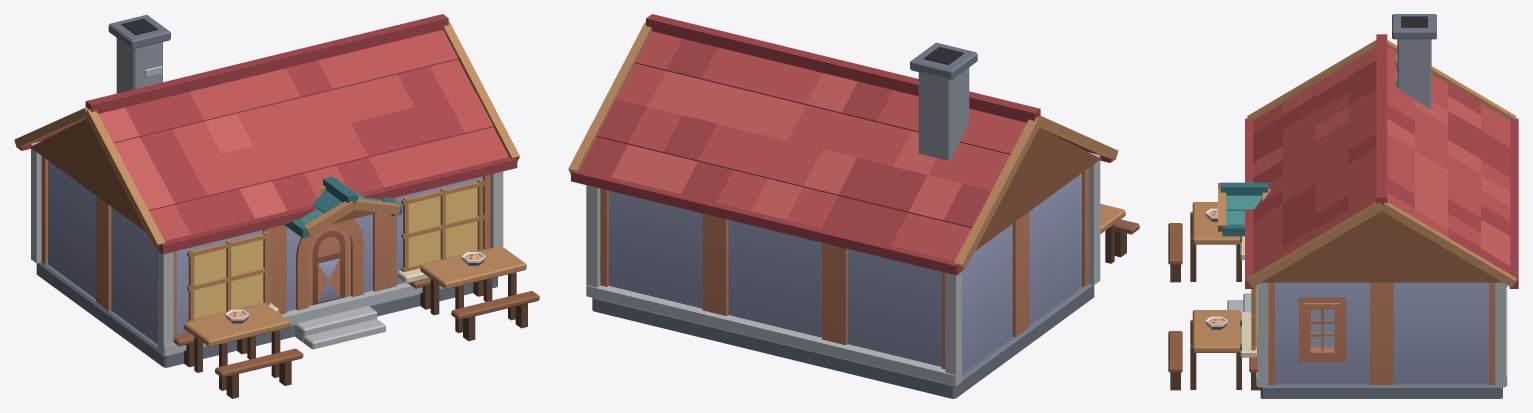
The model's file is diner.glb.
The picture shows the model from 3 angles, left to right: view 1: azimuth 30°, elevation 25°; view 2: azimuth 150°, elevation 25°; view 3: azimuth 270°, elevation 25°; orthographic projection. The views are drawn at different scales.
Parts seen in each view (by area): view 1: diner_建筑共用调色板, diner_fantasy-town-kit 调色板, diner_food-kit 调色板; view 2: diner_建筑共用调色板, diner_fantasy-town-kit 调色板; view 3: diner_建筑共用调色板, diner_fantasy-town-kit 调色板, diner_food-kit 调色板.
Boxes of the visible parts, x1=… form: diner_建筑共用调色板: x1=14, y1=14, x2=539, y2=398; diner_fantasy-town-kit 调色板: x1=41, y1=156, x2=490, y2=344; diner_food-kit 调色板: x1=225, y1=252, x2=485, y2=324; diner_建筑共用调色板: x1=568, y1=14, x2=1139, y2=398; diner_fantasy-town-kit 调色板: x1=600, y1=168, x2=1088, y2=373; diner_建筑共用调色板: x1=1168, y1=14, x2=1518, y2=398; diner_fantasy-town-kit 调色板: x1=1268, y1=282, x2=1495, y2=384; diner_food-kit 调色板: x1=1205, y1=208, x2=1227, y2=330.
Bounding box in the file's own units: 6.59 × 4.66 × 5.89.
3 materials, 3 textured.
